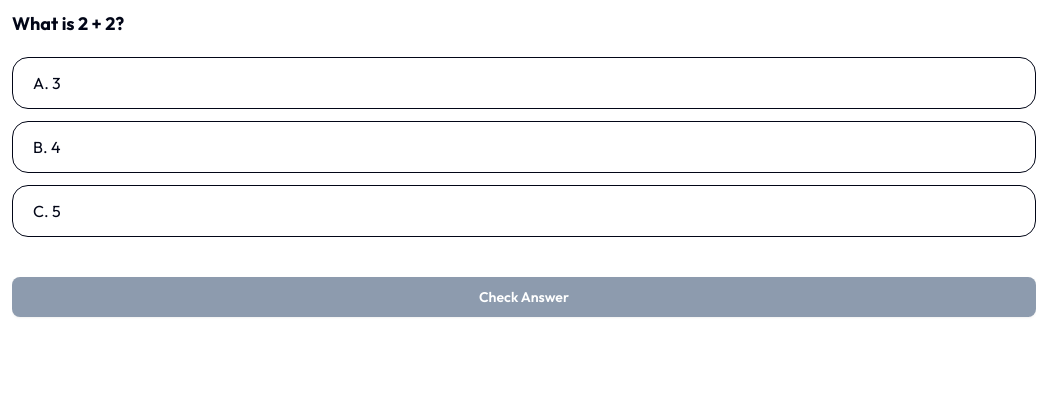
Test: QuizInlineViewer › shows Try Again when the answer is wrong
Click the button "A. 3": (39, 83) [12, 57, 1036, 109]
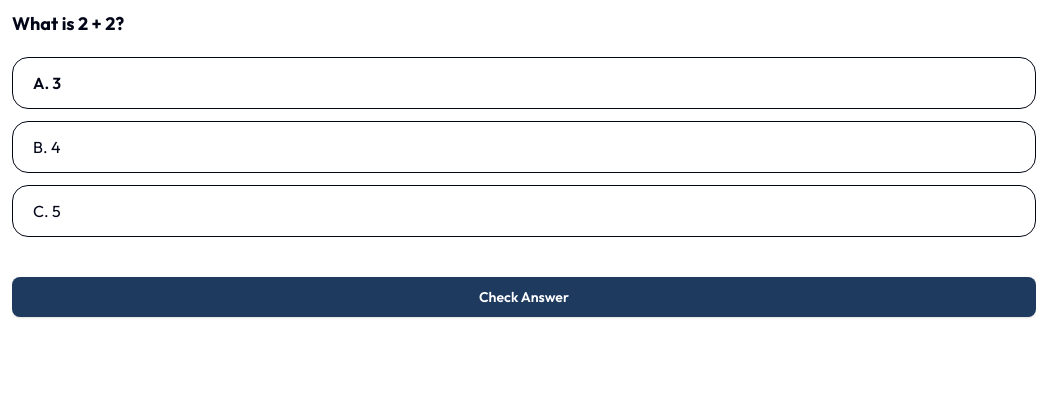
Click the button "Check Answer": (524, 297) [12, 277, 1036, 317]
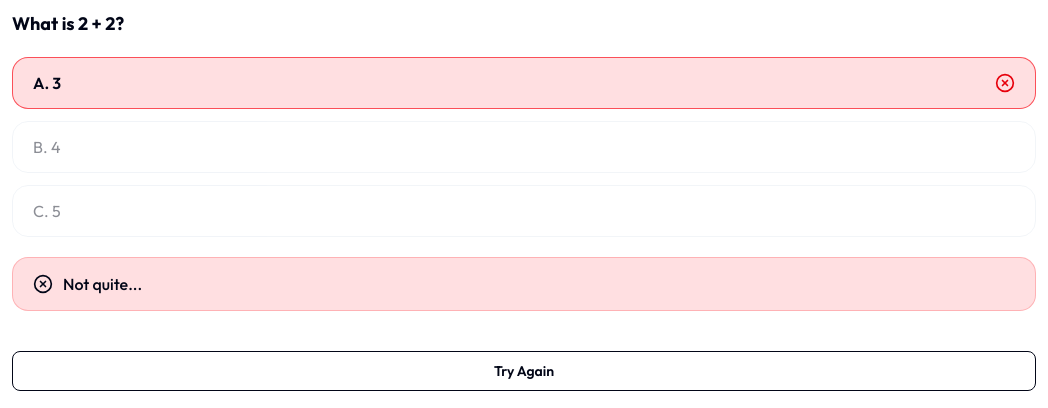
Check: the button "Try Again" is shown, box [12, 351, 1036, 391]
